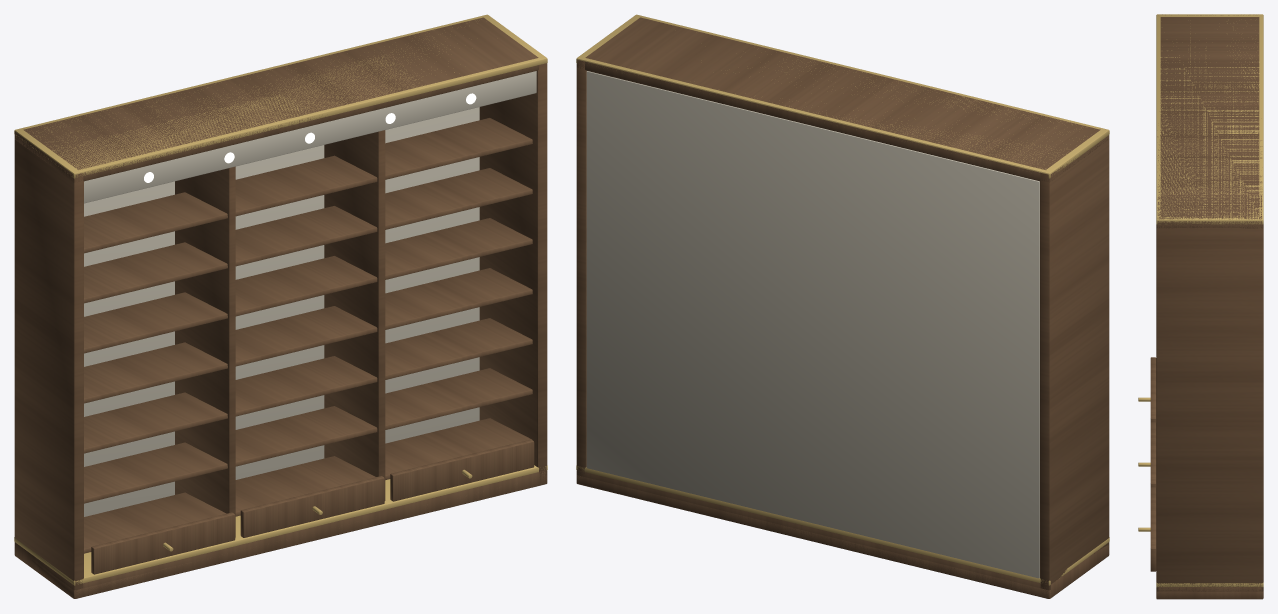
The model's file is pf_display_shoe_display_t5.glb.
3 views of the same model, side by side, from view 1: azimuth 30°, elevation 25°; view 2: azimuth 150°, elevation 25°; view 3: azimuth 270°, elevation 25° (orthographic). The views are drawn at different scales.
Parts seen in each view (by area): view 1: Case_Left, Case_Back, Crown_Main, Case_Right, Angled_Shoe_Shelf_02, Angled_Shoe_Shelf_04, Angled_Shoe_Shelf_05, Angled_Shoe_Shelf_03, Angled_Shoe_Shelf_07, Angled_Shoe_Shelf_06, Millwork_Divider_02, Millwork_Divider_01 (+10 smaller); view 2: Case_Back, Case_Left, Crown_Main, Crown_Trim, Case_Base, Case_Top, Case_Right, Plinth_Base, Plinth_Trim; view 3: Case_Right, Crown_Main, Crown_Trim, Case_Top, Case_Base, Drawer_Front_03, Plinth_Base, Drawer_Front_01, Drawer_Front_02, Plinth_Trim.
Boxes of the visible parts, <box> form: Case_Left: <box>14,132,83,598</box>; Case_Back: <box>84,107,479,516</box>; Crown_Main: <box>23,17,538,169</box>; Case_Right: <box>479,63,547,484</box>; Angled_Shoe_Shelf_02: <box>84,368,532,503</box>; Angled_Shoe_Shelf_04: <box>84,268,532,403</box>; Angled_Shoe_Shelf_05: <box>84,218,532,353</box>; Angled_Shoe_Shelf_03: <box>84,318,532,453</box>; Angled_Shoe_Shelf_07: <box>84,118,532,253</box>; Angled_Shoe_Shelf_06: <box>84,168,532,303</box>; Millwork_Divider_02: <box>324,130,385,500</box>; Millwork_Divider_01: <box>175,166,235,537</box>; Case_Back: <box>586,71,1039,578</box>; Case_Left: <box>1040,135,1109,598</box>; Crown_Main: <box>585,17,1100,169</box>; Crown_Trim: <box>576,14,1109,178</box>; Case_Base: <box>576,475,1109,598</box>; Case_Top: <box>576,59,1108,182</box>; Case_Right: <box>576,60,586,484</box>; Plinth_Base: <box>580,471,1108,597</box>; Plinth_Trim: <box>576,465,1109,585</box>; Case_Right: <box>1156,216,1263,598</box>; Crown_Main: <box>1160,17,1259,216</box>; Crown_Trim: <box>1156,14,1263,224</box>; Case_Top: <box>1156,135,1263,228</box>; Case_Base: <box>1156,591,1263,599</box>; Drawer_Front_03: <box>1150,487,1156,571</box>; Plinth_Base: <box>1158,587,1261,597</box>; Drawer_Front_01: <box>1150,357,1156,422</box>; Drawer_Front_02: <box>1150,422,1156,487</box>; Plinth_Trim: <box>1156,582,1263,587</box>.
Size of the model in its own units: 3 by 2.58 by 0.77.
Materials: 5 (1 with a texture image).
